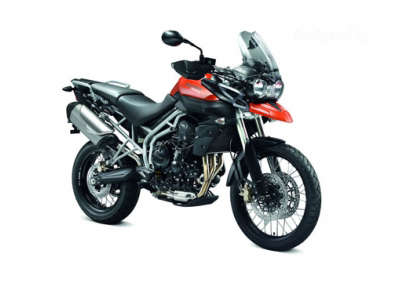motorcycle: (61, 53, 322, 251)
